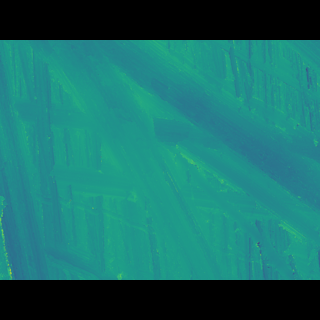Loch: (27, 69, 320, 223), (158, 142, 303, 250)
